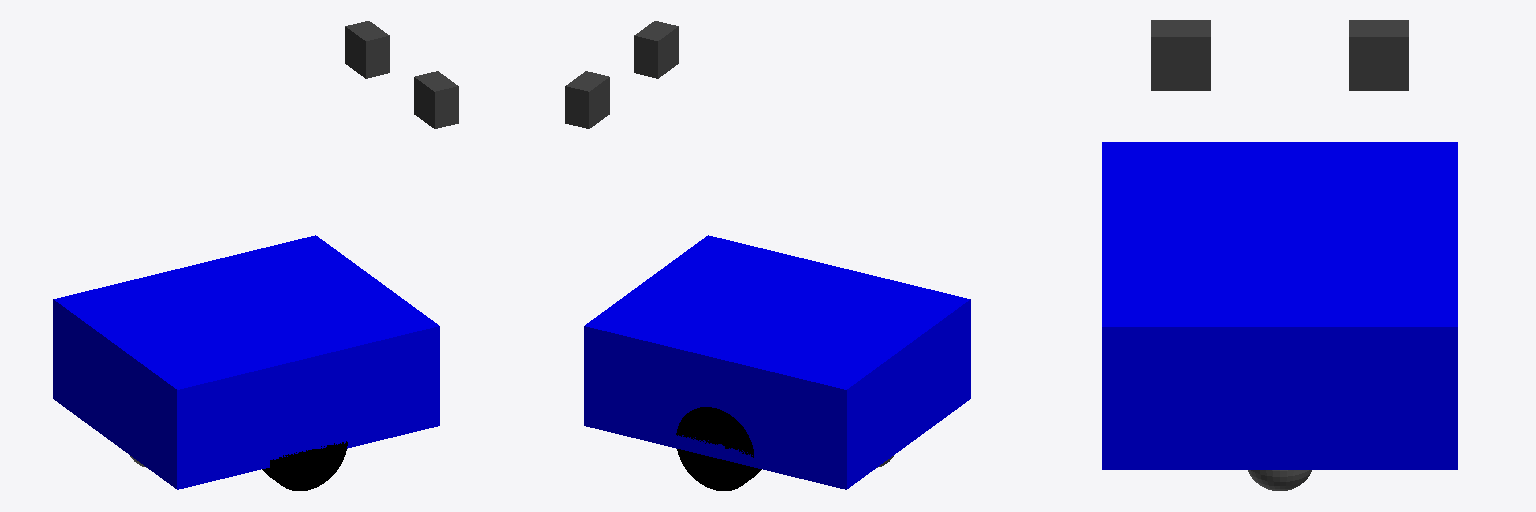
URDF robot description (diff_robot_stereo):
<?xml version="1.0"?>
<robot name="diff_robot_stereo">

  <!-- 空 link 作为 footprint（diff_drive 里程计 child frame） -->
  <link name="base_footprint"/>

  <joint name="base_footprint_joint" type="fixed">
    <parent link="base_footprint"/>
    <child link="base_link"/>
    <origin xyz="0 0 0.06" rpy="0 0 0"/>
  </joint>

  <!-- 底盘 -->
  <link name="base_link">
    <visual>
      <geometry><box size="0.22 0.18 0.08"/></geometry>
      <material name="blue"><color rgba="0.0 0.0 1.0 1.0"/></material>
    </visual>
    <collision>
      <geometry><box size="0.22 0.18 0.08"/></geometry>
    </collision>
    <inertial>
      <mass value="1.5"/>
      <inertia ixx="0.008" ixy="0.0" ixz="0.0" iyy="0.010" iyz="0.0" izz="0.012"/>
    </inertial>
  </link>

  <gazebo reference="base_link">
    <material>Gazebo/Blue</material>
  </gazebo>

  <!-- 左驱动轮 -->
  <link name="wheel_left">
    <visual>
      <geometry><cylinder length="0.02" radius="0.033"/></geometry>
      <material name="black"><color rgba="0.0 0.0 0.0 1.0"/></material>
    </visual>
    <collision>
      <geometry><cylinder length="0.02" radius="0.033"/></geometry>
    </collision>
    <inertial>
      <mass value="0.03"/>
      <inertia ixx="0.00001" ixy="0.0" ixz="0.0" iyy="0.00001" iyz="0.0" izz="0.00001"/>
    </inertial>
  </link>

  <gazebo reference="wheel_left">
    <material>Gazebo/Black</material>
  </gazebo>

  <joint name="wheel_left_joint" type="continuous">
    <parent link="base_link"/>
    <child link="wheel_left"/>
    <origin xyz="0 0.08 -0.033" rpy="-1.5708 0 0"/>
    <axis xyz="0 0 1"/>
  </joint>

  <!-- 右驱动轮 -->
  <link name="wheel_right">
    <visual>
      <geometry><cylinder length="0.02" radius="0.033"/></geometry>
      <material name="black"><color rgba="0.0 0.0 0.0 1.0"/></material>
    </visual>
    <collision>
      <geometry><cylinder length="0.02" radius="0.033"/></geometry>
    </collision>
    <inertial>
      <mass value="0.03"/>
      <inertia ixx="0.00001" ixy="0.0" ixz="0.0" iyy="0.00001" iyz="0.0" izz="0.00001"/>
    </inertial>
  </link>

  <gazebo reference="wheel_right">
    <material>Gazebo/Black</material>
  </gazebo>

  <joint name="wheel_right_joint" type="continuous">
    <parent link="base_link"/>
    <child link="wheel_right"/>
    <origin xyz="0 -0.08 -0.033" rpy="-1.5708 0 0"/>
    <axis xyz="0 0 1"/>
  </joint>

  <!-- 前万向轮 -->
  <link name="caster_front">
    <visual>
      <geometry><sphere radius="0.018"/></geometry>
      <material name="grey"><color rgba="0.4 0.4 0.4 1.0"/></material>
    </visual>
    <collision>
      <geometry><sphere radius="0.018"/></geometry>
    </collision>
    <inertial>
      <mass value="0.01"/>
      <inertia ixx="0.000001" ixy="0.0" ixz="0.0" iyy="0.000001" iyz="0.0" izz="0.000001"/>
    </inertial>
  </link>

  <gazebo reference="caster_front">
    <material>Gazebo/Grey</material>
  </gazebo>

  <joint name="caster_front_joint" type="fixed">
    <parent link="base_link"/>
    <child link="caster_front"/>
    <origin xyz="0.08 0 -0.046" rpy="0 0 0"/>
  </joint>

  <!-- 后万向轮 -->
  <link name="caster_back">
    <visual>
      <geometry><sphere radius="0.018"/></geometry>
      <material name="grey"><color rgba="0.4 0.4 0.4 1.0"/></material>
    </visual>
    <collision>
      <geometry><sphere radius="0.018"/></geometry>
    </collision>
    <inertial>
      <mass value="0.01"/>
      <inertia ixx="0.000001" ixy="0.0" ixz="0.0" iyy="0.000001" iyz="0.0" izz="0.000001"/>
    </inertial>
  </link>

  <gazebo reference="caster_back">
    <material>Gazebo/Grey</material>
  </gazebo>

  <joint name="caster_back_joint" type="fixed">
    <parent link="base_link"/>
    <child link="caster_back"/>
    <origin xyz="-0.08 0 -0.046" rpy="0 0 0"/>
  </joint>

  <!-- 左相机 cam0 -->
  <link name="cam0">
    <visual>
      <origin xyz="0 0 -0.02" rpy="0 0 0"/>
      <geometry><box size="0.03 0.03 0.02"/></geometry>
      <material name="grey"><color rgba="0.3 0.3 0.3 1.0"/></material>
    </visual>
    <collision>
      <origin xyz="0 0 -0.02" rpy="0 0 0"/>
      <geometry><box size="0.03 0.03 0.02"/></geometry>
    </collision>
    <inertial>
      <mass value="0.05"/>
      <inertia ixx="0.00001" ixy="0.0" ixz="0.0" iyy="0.00001" iyz="0.0" izz="0.00001"/>
    </inertial>
  </link>

  <joint name="cam0_joint" type="fixed">
    <parent link="base_link"/>
    <child link="cam0"/>
    <origin xyz="0.15 0.05 0.2" rpy="-1.5708 0 -1.5708"/>
  </joint>

  <!-- 右相机 cam1 -->
  <link name="cam1">
    <visual>
      <origin xyz="0 0 -0.02" rpy="0 0 0"/>
      <geometry><box size="0.03 0.03 0.02"/></geometry>
      <material name="grey"><color rgba="0.3 0.3 0.3 1.0"/></material>
    </visual>
    <collision>
      <origin xyz="0 0 -0.02" rpy="0 0 0"/>
      <geometry><box size="0.03 0.03 0.02"/></geometry>
    </collision>
    <inertial>
      <mass value="0.05"/>
      <inertia ixx="0.00001" ixy="0.0" ixz="0.0" iyy="0.00001" iyz="0.0" izz="0.00001"/>
    </inertial>
  </link>

  <joint name="cam1_joint" type="fixed">
    <parent link="base_link"/>
    <child link="cam1"/>
    <origin xyz="0.15 -0.05 0.2" rpy="-1.5708 0 -1.5708"/>
  </joint>

  <!-- Gazebo 差分驱动插件 -->
  <gazebo>
    <plugin name="diff_drive" filename="libgazebo_ros_diff_drive.so">
      <ros>
        <namespace>/</namespace>
      </ros>
      <update_rate>30</update_rate>
      <left_joint>wheel_left_joint</left_joint>
      <right_joint>wheel_right_joint</right_joint>
      <wheel_separation>0.16</wheel_separation>
      <wheel_diameter>0.066</wheel_diameter>
      <max_wheel_torque>20</max_wheel_torque>
      <max_wheel_acceleration>1.0</max_wheel_acceleration>
      <publish_odom>true</publish_odom>
      <publish_odom_tf>true</publish_odom_tf>
      <publish_wheel_tf>false</publish_wheel_tf>
      <odometry_frame>odom</odometry_frame>
      <robot_base_frame>base_footprint</robot_base_frame>
    </plugin>
  </gazebo>

  <!-- 左相机传感器 -->
  <gazebo reference="cam0">
    <sensor type="camera" name="camera_cam0">
      <pose>0 0 0 0 0 0</pose>
      <always_on>true</always_on>
      <visualize>false</visualize>
      <update_rate>10</update_rate>
      <camera>
        <horizontal_fov>1.35104</horizontal_fov>
        <image>
          <width>752</width>
          <height>480</height>
          <format>R8G8B8</format>
        </image>
        <clip>
          <near>0.05</near>
          <far>30</far>
        </clip>
      </camera>
      <plugin name="camera_cam0_plugin" filename="libgazebo_ros_camera.so">
        <ros>
          <namespace>/</namespace>
          <remapping>~/image_raw:=/cam0/image_raw</remapping>
          <remapping>~/camera_info:=/cam0/camera_info</remapping>
        </ros>
        <camera_name>cam0</camera_name>
        <frame_name>cam0</frame_name>
        <hack_baseline>0.0</hack_baseline>
      </plugin>
    </sensor>
  </gazebo>

  <!-- 右相机传感器 -->
  <gazebo reference="cam1">
    <sensor type="camera" name="camera_cam1">
      <pose>0 0 0 0 0 0</pose>
      <always_on>true</always_on>
      <visualize>false</visualize>
      <update_rate>10</update_rate>
      <camera>
        <horizontal_fov>1.35104</horizontal_fov>
        <image>
          <width>752</width>
          <height>480</height>
          <format>R8G8B8</format>
        </image>
        <clip>
          <near>0.05</near>
          <far>30</far>
        </clip>
      </camera>
      <plugin name="camera_cam1_plugin" filename="libgazebo_ros_camera.so">
        <ros>
          <namespace>/</namespace>
          <remapping>~/image_raw:=/cam1/image_raw</remapping>
          <remapping>~/camera_info:=/cam1/camera_info</remapping>
        </ros>
        <camera_name>cam1</camera_name>
        <frame_name>cam1</frame_name>
        <hack_baseline>0.0</hack_baseline>
      </plugin>
    </sensor>
  </gazebo>

  <!-- IMU 传感器 -->
  <gazebo reference="base_link">
    <sensor name="imu_stereo" type="imu">
      <always_on>true</always_on>
      <update_rate>200</update_rate>
      <visualize>false</visualize>

      <plugin name="imu_stereo_plugin" filename="libgazebo_ros_imu_sensor.so">
        <ros>
          <namespace>/</namespace>
          <remapping>~/out:=/imu0</remapping>
        </ros>
        <initial_orientation_as_reference>false</initial_orientation_as_reference>
      </plugin>

      <imu>
        <angular_velocity>
          <x><noise type="gaussian"><mean>0.0</mean><stddev>2e-4</stddev></noise></x>
          <y><noise type="gaussian"><mean>0.0</mean><stddev>2e-4</stddev></noise></y>
          <z><noise type="gaussian"><mean>0.0</mean><stddev>2e-4</stddev></noise></z>
        </angular_velocity>
        <linear_acceleration>
          <x><noise type="gaussian"><mean>0.0</mean><stddev>1.7e-2</stddev></noise></x>
          <y><noise type="gaussian"><mean>0.0</mean><stddev>1.7e-2</stddev></noise></y>
          <z><noise type="gaussian"><mean>0.0</mean><stddev>1.7e-2</stddev></noise></z>
        </linear_acceleration>
      </imu>
    </sensor>
  </gazebo>

</robot>

--- Render facts (derived) ---
The picture shows the robot from 3 angles, left to right: view 1: azimuth 30°, elevation 25°; view 2: azimuth 150°, elevation 25°; view 3: azimuth 270°, elevation 25°; orthographic projection.
Robot: diff_robot_stereo — 8 links, 7 joints (2 continuous, 5 fixed); root link base_footprint; default pose: every joint at zero.
Visible links, largest first — view 1: base_link, wheel_right, cam1, cam0; view 2: base_link, wheel_left, cam0, cam1; view 3: base_link, cam0, cam1, caster_front.
Boxes of the visible links, x1,y1,x2,y2 form: base_link: (53, 235, 439, 489); wheel_right: (262, 441, 347, 490); cam1: (414, 71, 458, 128); cam0: (345, 21, 389, 78); base_link: (584, 235, 970, 489); wheel_left: (676, 407, 761, 490); cam0: (565, 71, 609, 128); cam1: (634, 21, 678, 78); base_link: (1102, 142, 1457, 469); cam0: (1349, 20, 1408, 90); cam1: (1151, 20, 1210, 90); caster_front: (1248, 470, 1311, 490).
Size in the robot's own frame: 0.25 by 0.18 by 0.281 metres.
Geometry: primitives only (box / cylinder / sphere), no mesh files.
